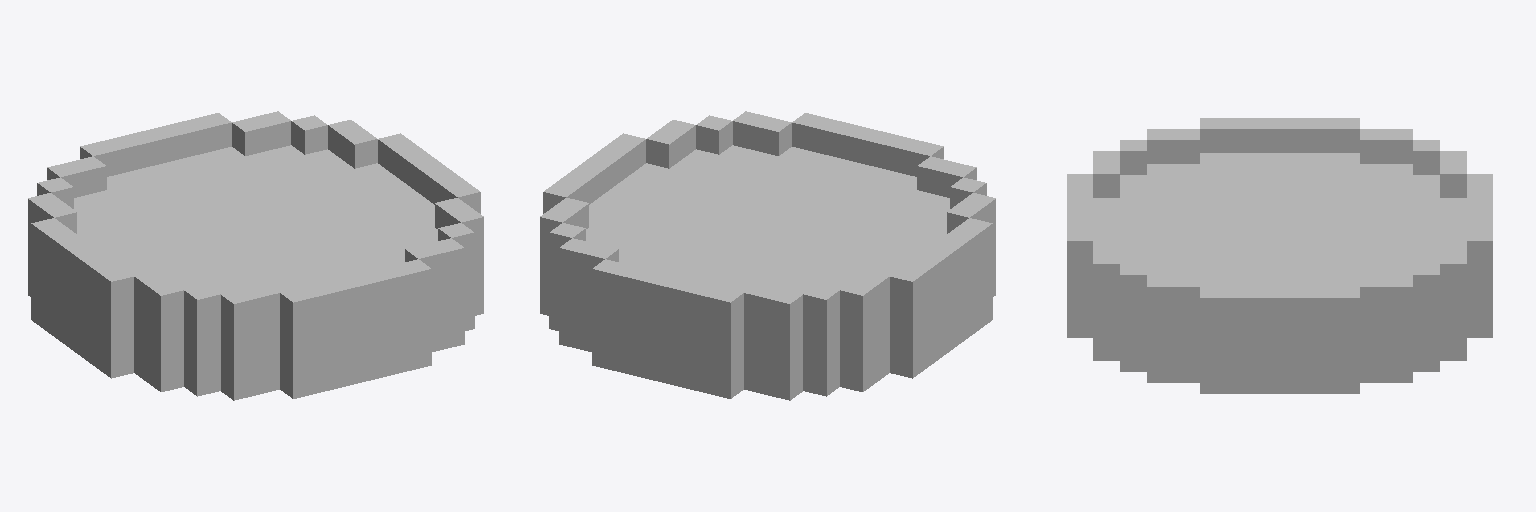
File: pie.obj
3 views of the same model, side by side, from view 1: azimuth 30°, elevation 25°; view 2: azimuth 150°, elevation 25°; view 3: azimuth 270°, elevation 25° (orthographic).
Parts seen in each view (by area): view 1: object 1; view 2: object 1; view 3: object 1.
Part boxes in pixels (bbox=[...]): object 1: bbox=[28, 111, 483, 400]; object 1: bbox=[540, 111, 995, 400]; object 1: bbox=[1067, 118, 1492, 393].
Bounding box in the file's own units: 1.6 × 0.4 × 1.6.